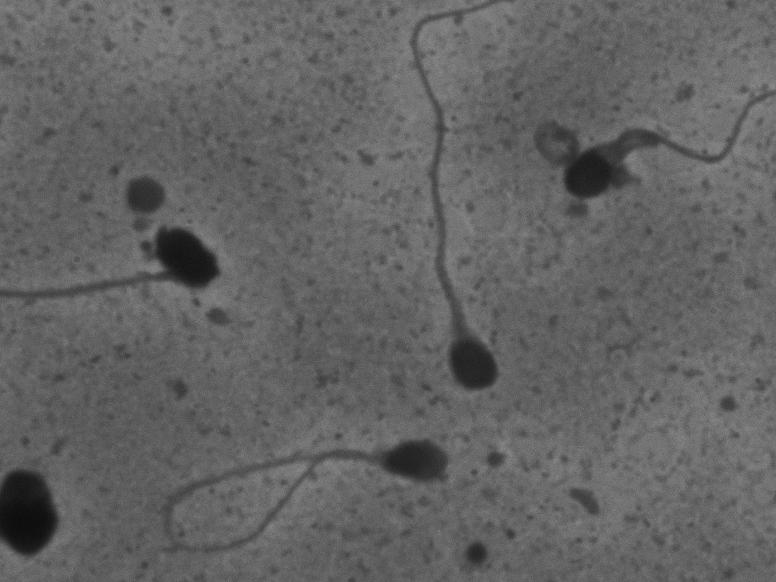Abnormal: (383, 4, 513, 406), (135, 426, 461, 559), (554, 51, 763, 256), (6, 208, 252, 343)
